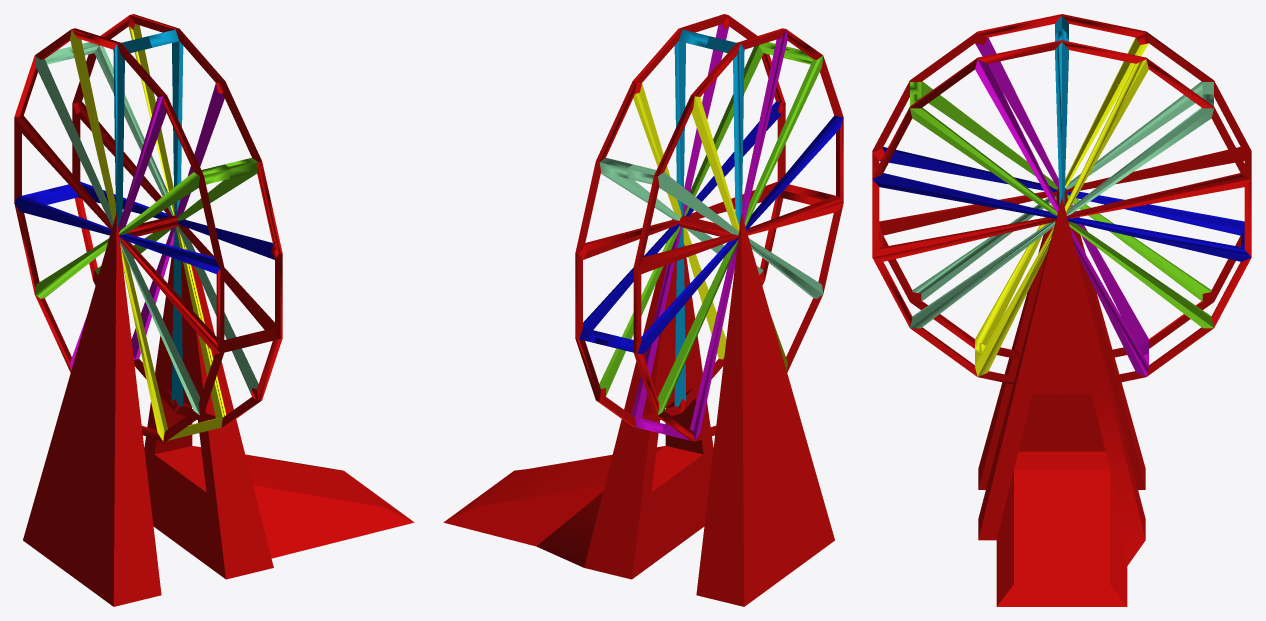
File: ferris.fbx
The picture shows the model from 3 angles, left to right: view 1: azimuth 30°, elevation 25°; view 2: azimuth 150°, elevation 25°; view 3: azimuth 270°, elevation 25°; orthographic projection. The views are drawn at different scales.
Visible parts, largest first — view 1: Cylinder, Pyramid_1, Pyramid; view 2: Cylinder, Pyramid_1, Pyramid; view 3: Cylinder, Pyramid_1, Pyramid.
Part boxes in pixels (box(x1,y1,x2,y2)): Cylinder: box(14, 14, 282, 441); Pyramid_1: box(144, 219, 414, 579); Pyramid: box(23, 213, 161, 606); Cylinder: box(575, 14, 843, 441); Pyramid_1: box(443, 219, 713, 579); Pyramid: box(696, 213, 834, 606); Cylinder: box(872, 14, 1251, 394); Pyramid_1: box(978, 198, 1145, 606); Pyramid: box(978, 227, 1145, 489).
Size of the model in its own units: 5986 by 9526 by 6875.
